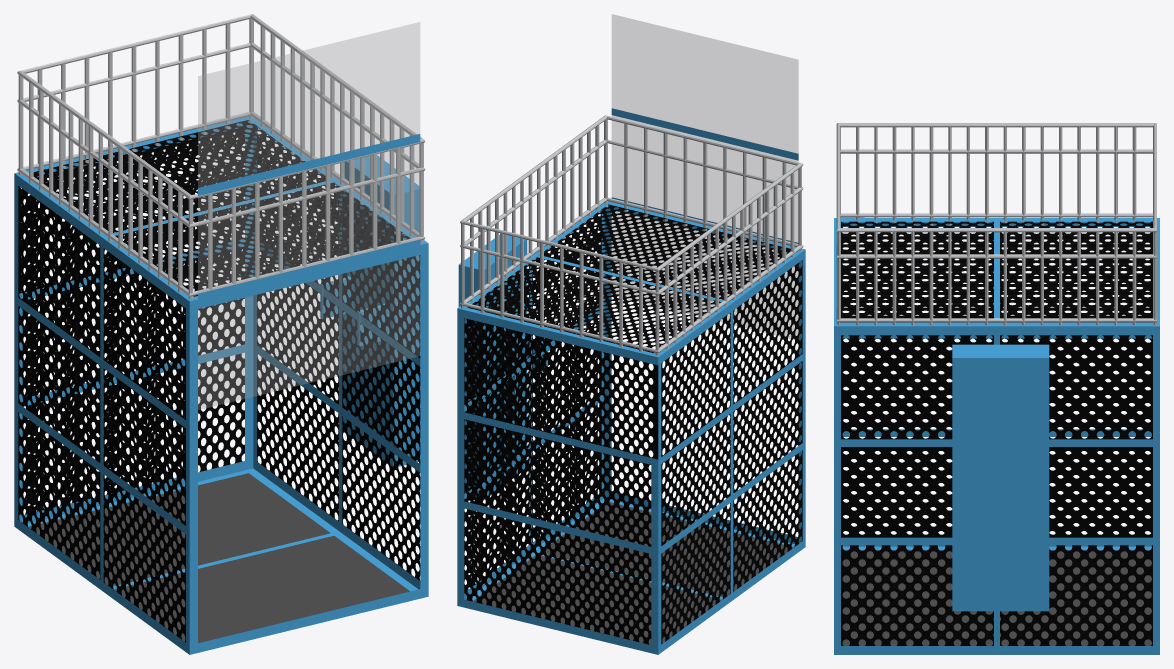
Rendered from 升降梯.fbx.
3 views of the same model, side by side, from view 1: azimuth 30°, elevation 25°; view 2: azimuth 150°, elevation 25°; view 3: azimuth 270°, elevation 25° (orthographic). The views are drawn at different scales.
Parts seen in each view (by area): view 1: 对象1373, 对象1375, 对象1372, Box1655588, 对象1374; view 2: 对象1373, 对象1375, 对象1372, Box1655588; view 3: 对象1373, Box1655588, 对象1372.
Part boxes in pixels (x1,y1,x2,y2): 对象1373: [14, 116, 428, 654]; 对象1375: [198, 22, 420, 409]; 对象1372: [17, 14, 425, 299]; Box1655588: [343, 155, 420, 466]; 对象1374: [320, 276, 389, 345]; 对象1373: [457, 201, 805, 654]; 对象1375: [611, 14, 798, 339]; 对象1372: [460, 115, 803, 355]; Box1655588: [458, 234, 527, 497]; 对象1373: [834, 218, 1159, 654]; Box1655588: [952, 344, 1049, 611]; 对象1372: [836, 123, 1156, 325].
Bounding box in the file's own units: 281 × 522 × 288.
Materials: 5 (1 with a texture image).
